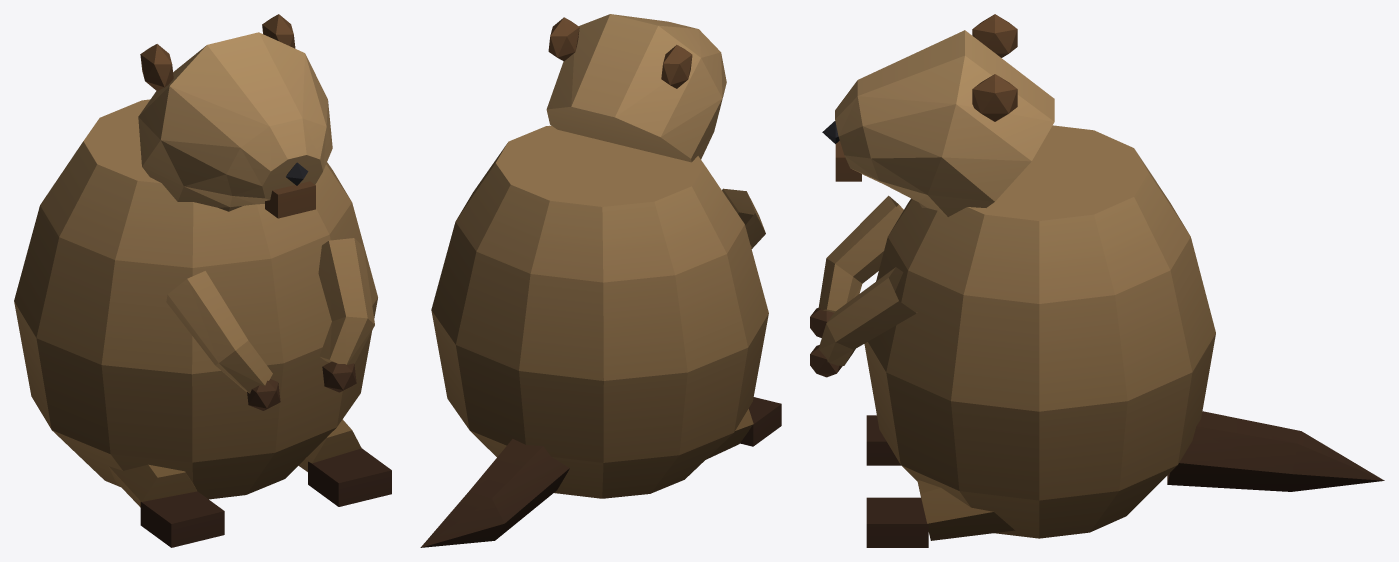
File: Marmot.fbx
3 renders of one model, left to right at view 1: azimuth 30°, elevation 25°; view 2: azimuth 150°, elevation 25°; view 3: azimuth 270°, elevation 25°, orthographic. The views are drawn at different scales.
Parts seen in each view (by area): view 1: Marmot_LOD0; view 2: Marmot_LOD0; view 3: Marmot_LOD0.
Boxes of the visible parts, left/top/right/bottom form: Marmot_LOD0: left=14, top=14, right=391, bottom=547; Marmot_LOD0: left=420, top=14, right=781, bottom=547; Marmot_LOD0: left=810, top=14, right=1384, bottom=547.
Size of what is drawn, in the model's own units: 0.42 by 0.5614 by 0.6487.
1 material, 1 textured.
